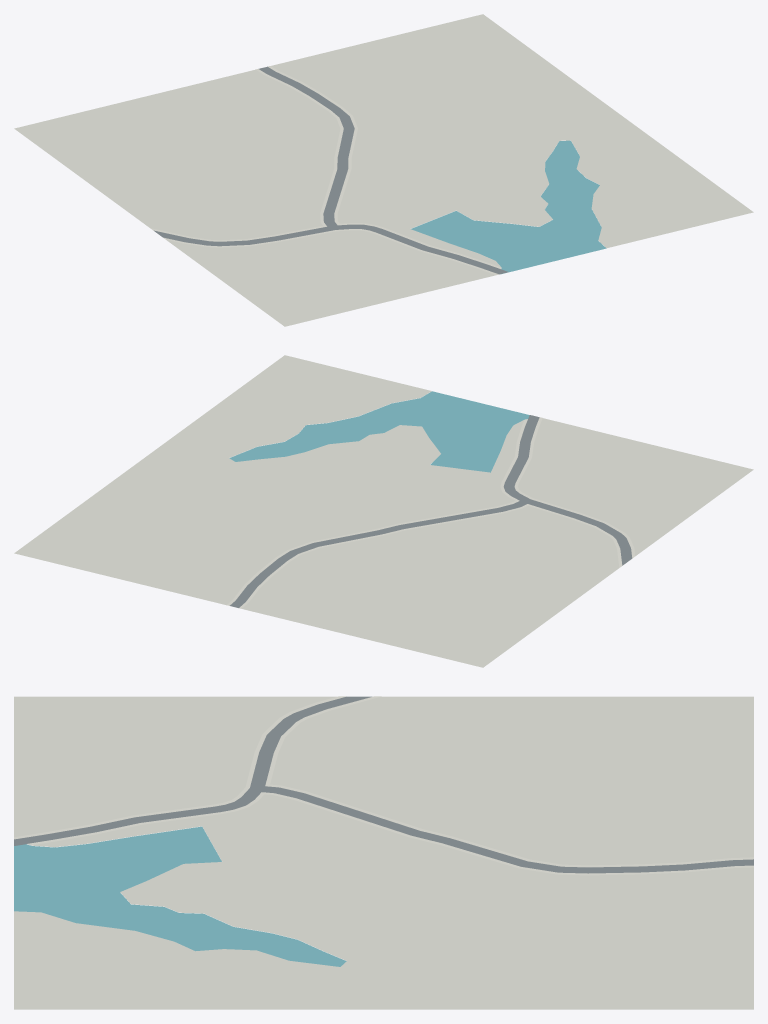
3 renders of one model, top to bottom at view 1: azimuth 30°, elevation 25°; view 2: azimuth 150°, elevation 25°; view 3: azimuth 270°, elevation 25°, orthographic. The views are drawn at different scales.
Visible parts, largest first — view 1: city; view 2: city; view 3: city.
Boxes of the visible parts, box(x1,y1,x2,y2) form: city: box(14, 14, 753, 326); city: box(14, 355, 753, 667); city: box(14, 696, 753, 1009).
Size of the model in its own units: 500 by 0.4 by 500.
